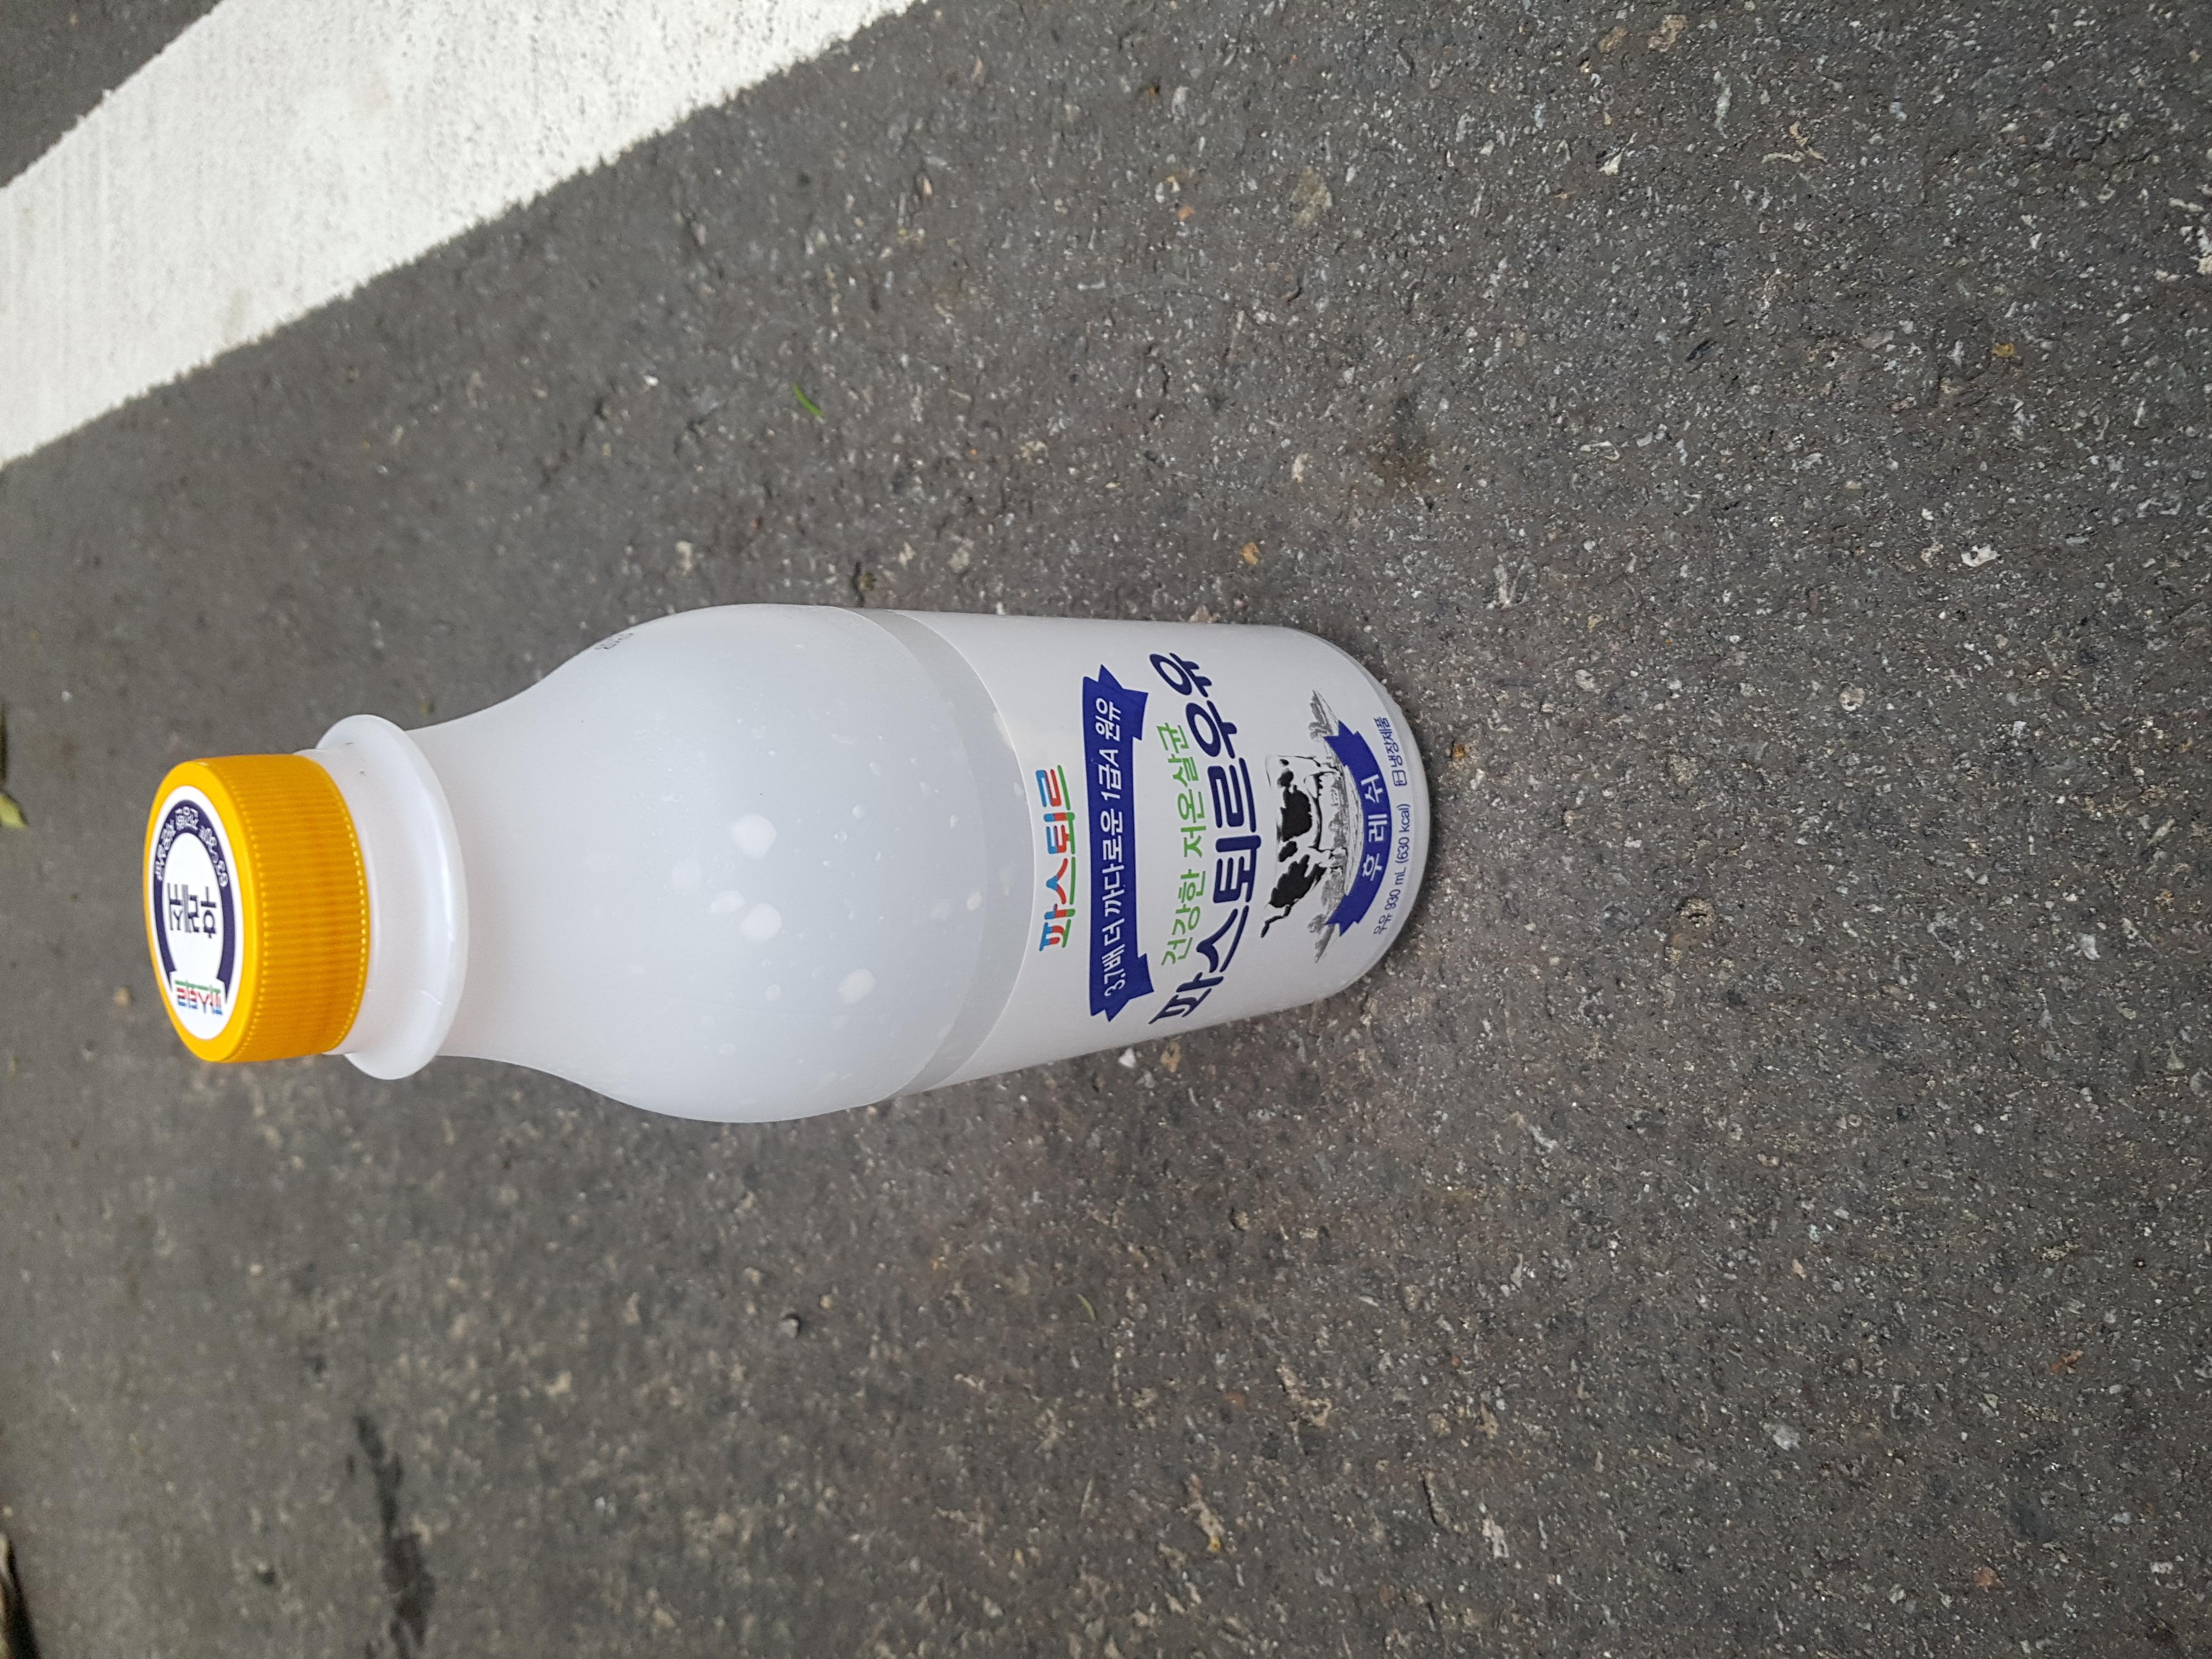bottle: (503, 59, 1268, 1117)
